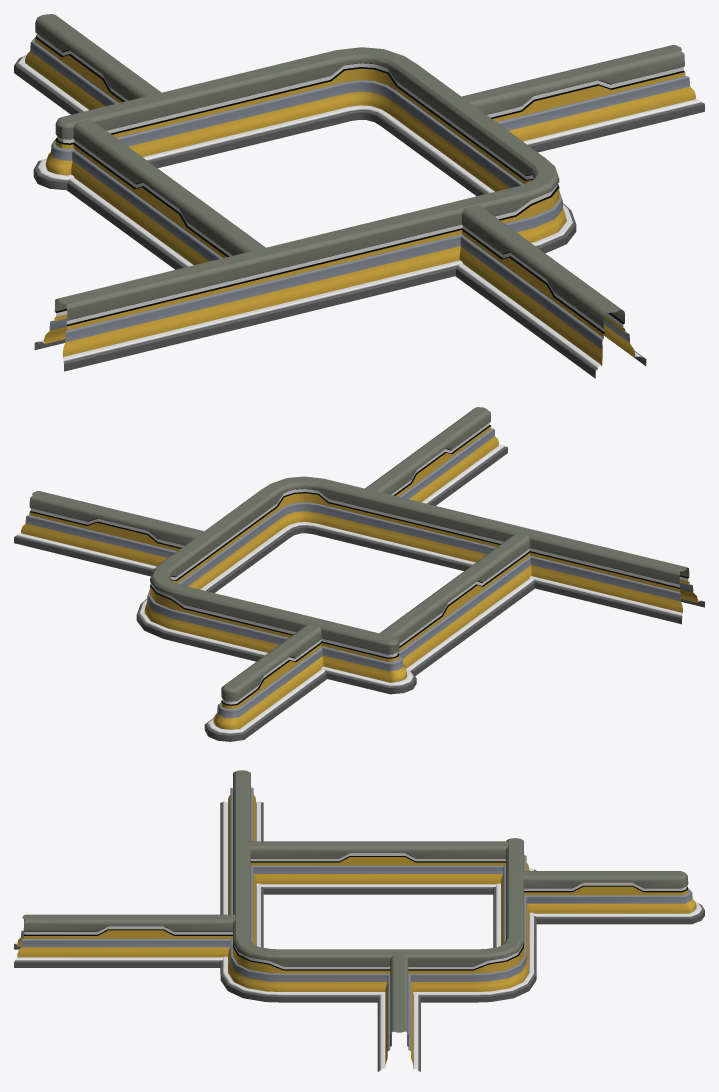
Rendered from Level20_Small_walls.fbx.
3 views of the same model, one above another, from view 1: azimuth 30°, elevation 25°; view 2: azimuth 150°, elevation 25°; view 3: azimuth 270°, elevation 25° (orthographic). The views are drawn at different scales.
Parts seen in each view (by area): view 1: Small_wall_L24, Small_wallvL2, Small_wallvL1, Small_wallvL3, Small_wallv1_11; view 2: Small_wall_L24, Small_wallvL3, Small_wallvL2, Small_wallv1_11, Small_wallvL1; view 3: Small_wall_L24, Small_wallvL3, Small_wallvL1, Small_wallv1_11, Small_wallvL2.
Boxes of the visible parts, bbox=[...] form: Small_wall_L24: bbox=[33, 47, 576, 371]; Small_wallvL2: bbox=[461, 45, 704, 152]; Small_wallvL1: bbox=[455, 205, 646, 378]; Small_wallvL3: bbox=[67, 119, 265, 269]; Small_wallv1_11: bbox=[14, 14, 161, 114]; Small_wall_L24: bbox=[136, 476, 704, 694]; Small_wallvL3: bbox=[380, 533, 534, 675]; Small_wallvL2: bbox=[14, 491, 204, 576]; Small_wallv1_11: bbox=[204, 624, 326, 741]; Small_wallvL1: bbox=[365, 407, 507, 505]; Small_wall_L24: bbox=[220, 770, 536, 1002]; Small_wallvL3: bbox=[248, 841, 508, 894]; Small_wallvL1: bbox=[14, 914, 235, 967]; Small_wallv1_11: bbox=[522, 871, 704, 924]; Small_wallvL2: bbox=[377, 955, 420, 1071].
Size of the model in its own units: 509 by 37.76 by 551.
